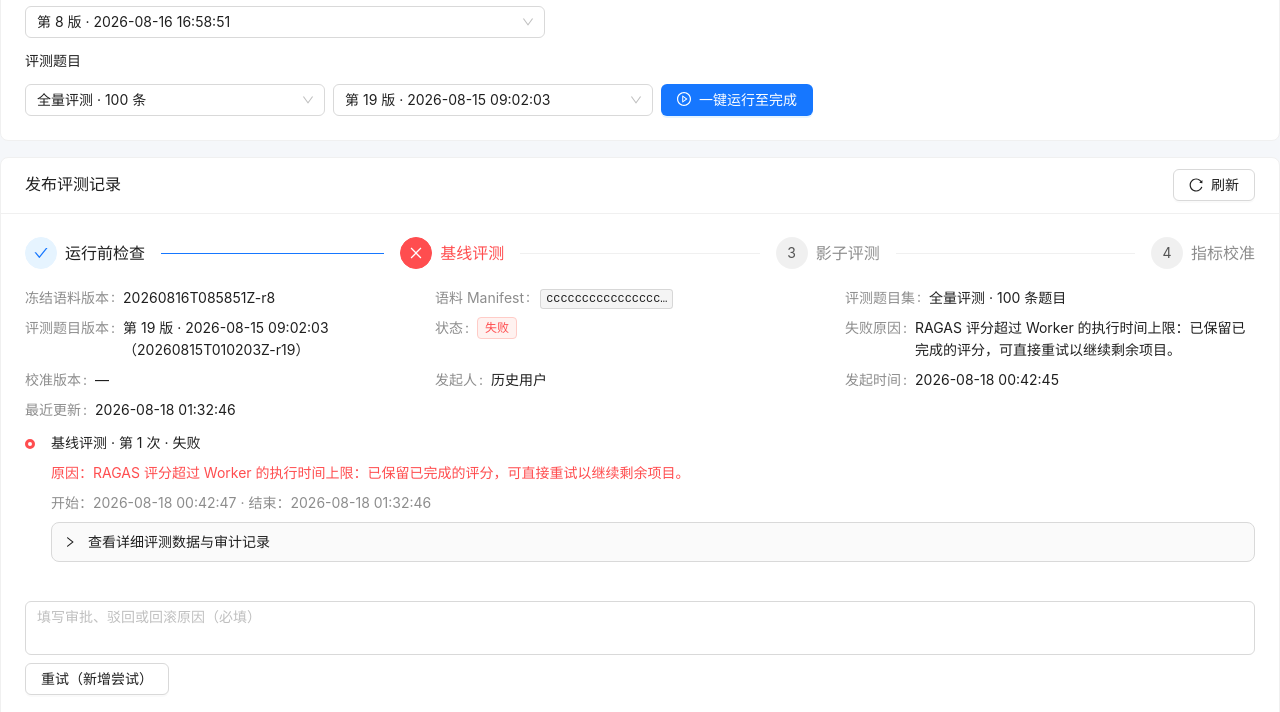
Test: explains RAGAS worker timeout and labels answer latency scope
The image size is (1280, 712).
(page scrolled)
Expected: the text "RAGAS 评分超过 Worker 的执行时间上限：已保留已完成的评分，可直接重试以继续剩余项目。" is shown, x1=915 y1=317 x2=1255 y2=361
Expected: the text "P50 端到端回答延迟（毫秒）" is not shown
Step 1. Click the button "查看详细评测数据与审计记录" → x=167, y=542, box x1=64 y1=533 x2=270 y2=550
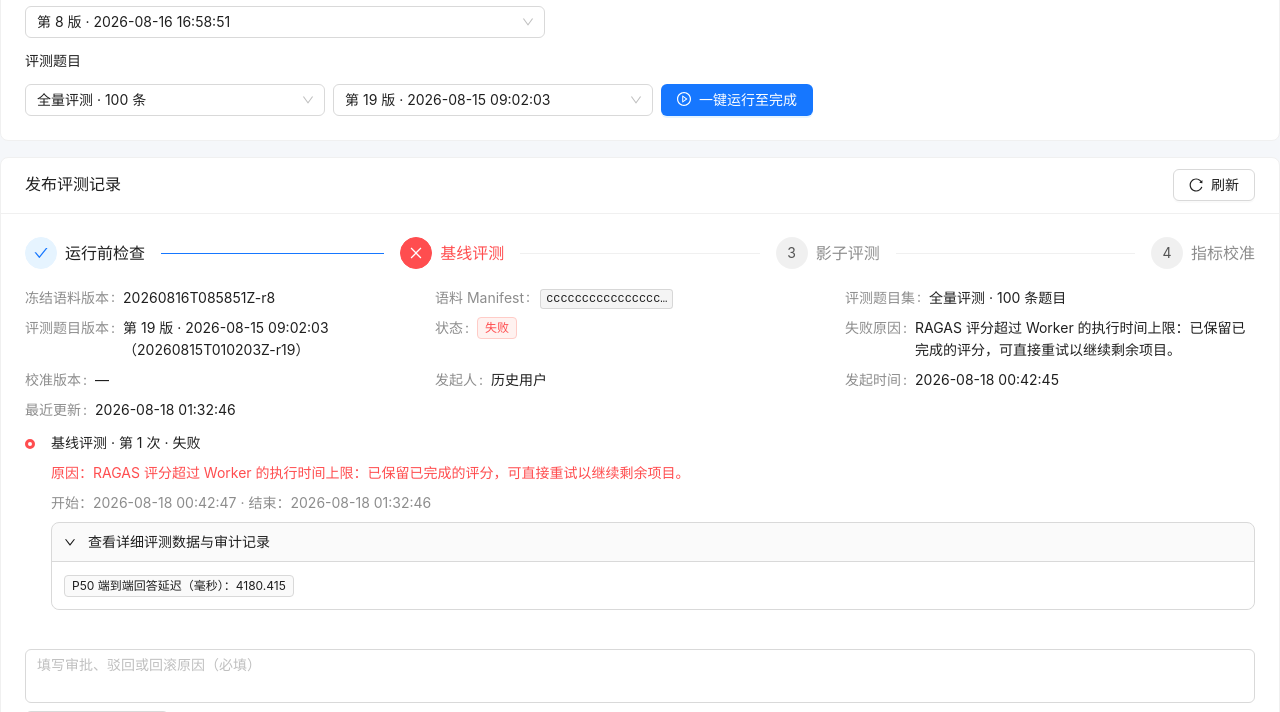
Expected: the text "P50 端到端回答延迟（毫秒）：4180.415" is shown, x1=64 y1=575 x2=294 y2=597
